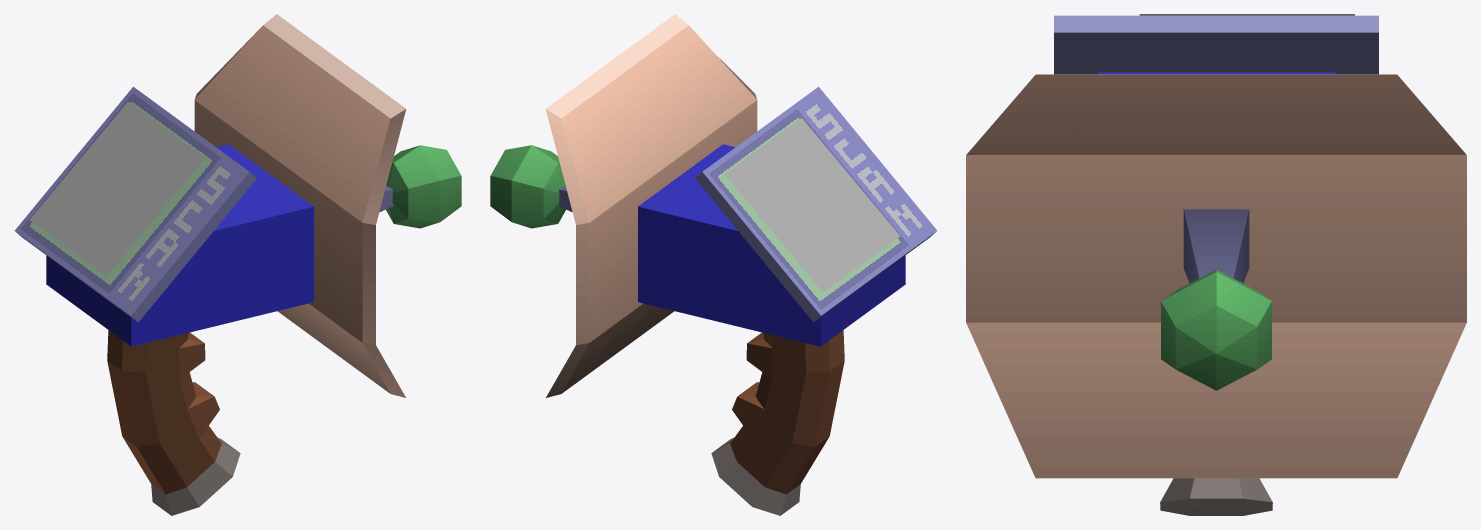
File: scanner.fbx
3 views of the same model, side by side, from view 1: azimuth 30°, elevation 25°; view 2: azimuth 150°, elevation 25°; view 3: azimuth 270°, elevation 25° (orthographic). The views are drawn at different scales.
Parts seen in each view (by area): view 1: scanner1, pPlane1; view 2: scanner1, pPlane1; view 3: scanner1.
Part boxes in pixels (left/top/right/bottom): scanner1: left=14, top=14, right=461, bottom=515; pPlane1: left=30, top=101, right=204, bottom=276; scanner1: left=490, top=14, right=937, bottom=515; pPlane1: left=724, top=118, right=899, bottom=292; scanner1: left=966, top=15, right=1466, bottom=515.
Size of the model in its own units: 0.2186 by 0.2205 by 0.1775.
